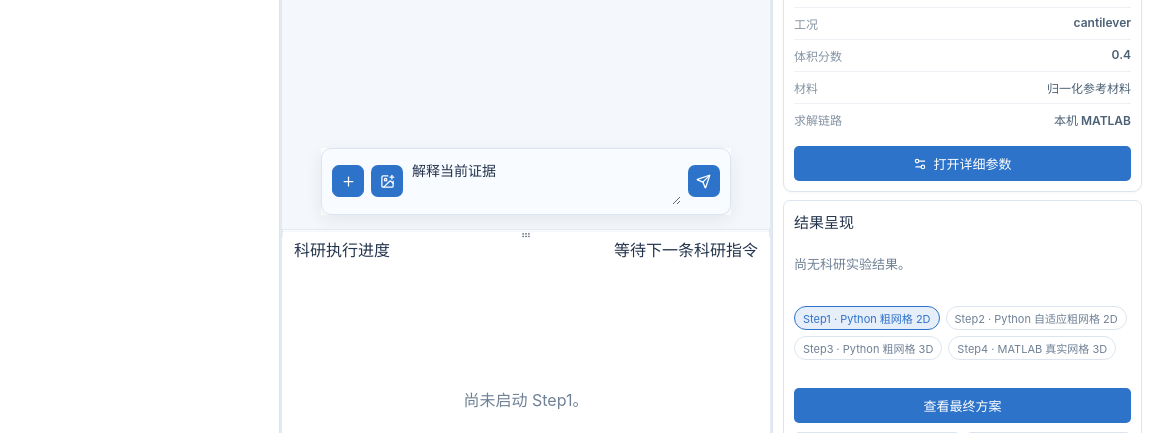
ResearchWorkspace stream lifecycle › routes normal chat through the non-SQLite research chat API
This screenshot has width=1152, height=433.
(page scrolled)
Click the button named "发送科研消息".
click(704, 182)  # box [688, 166, 720, 198]
(page scrolled)
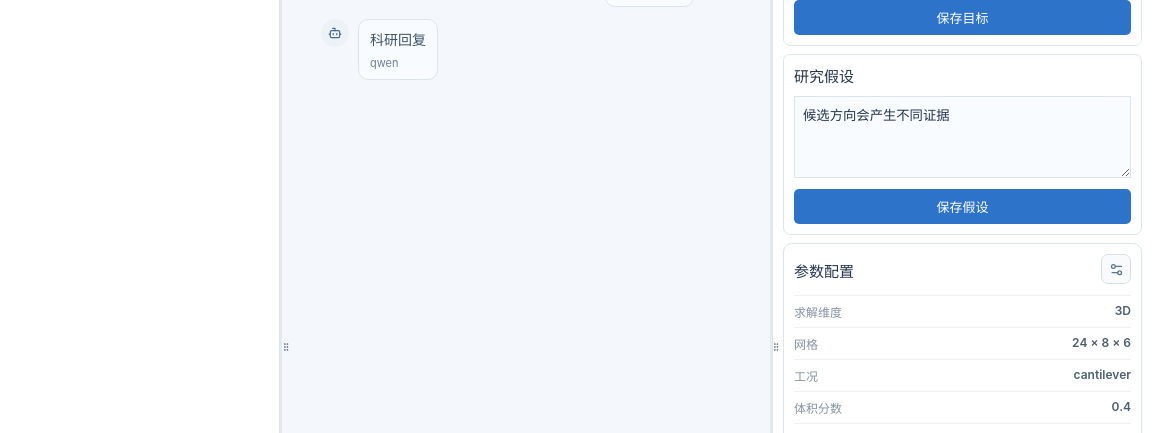
Check: the text "科研回复" is shown, box [370, 29, 426, 51]
